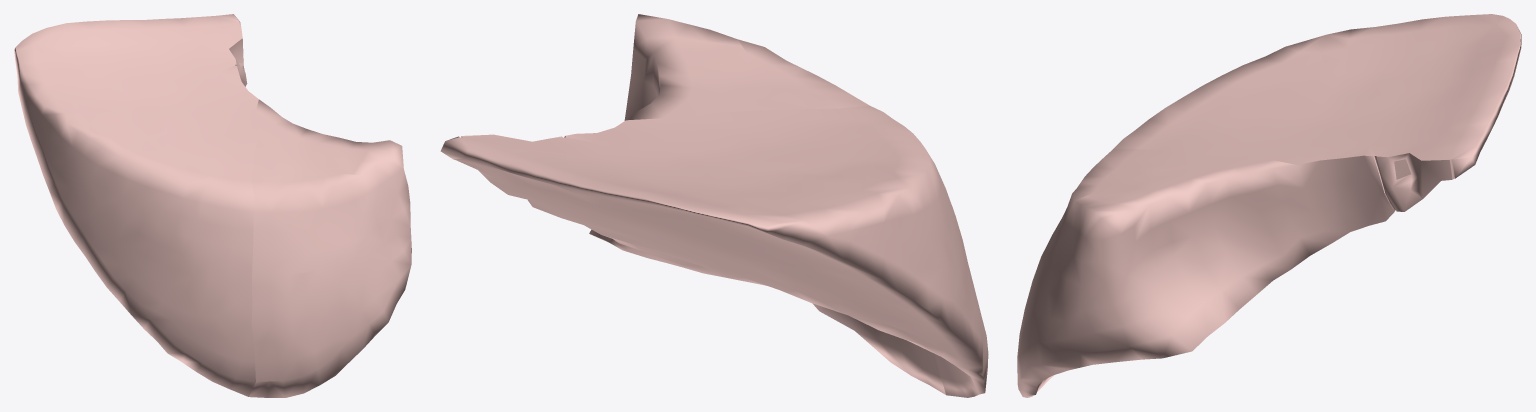
File: lobo_medio_direito.glb
The picture shows the model from 3 angles, left to right: view 1: azimuth 30°, elevation 25°; view 2: azimuth 150°, elevation 25°; view 3: azimuth 270°, elevation 25°; orthographic projection. The views are drawn at different scales.
Visible parts, largest first — view 1: lobo_medio_direito; view 2: lobo_medio_direito; view 3: lobo_medio_direito.
Part boxes in pixels (box(x1,y1,x2,y2)): lobo_medio_direito: box(14, 14, 411, 397); lobo_medio_direito: box(440, 14, 988, 397); lobo_medio_direito: box(1017, 14, 1521, 397).
Size of the model in its own units: 0.1192 by 0.1065 by 0.1508.
